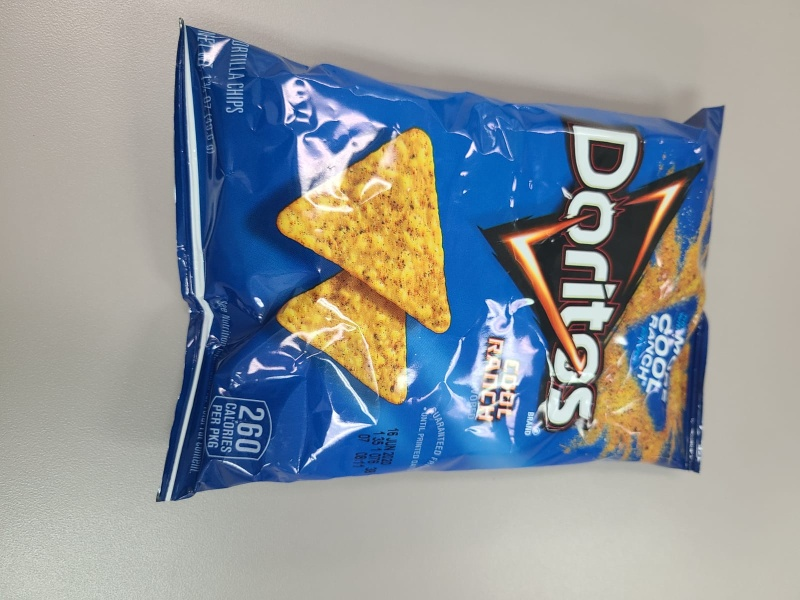doritos: (156, 18, 727, 501)
